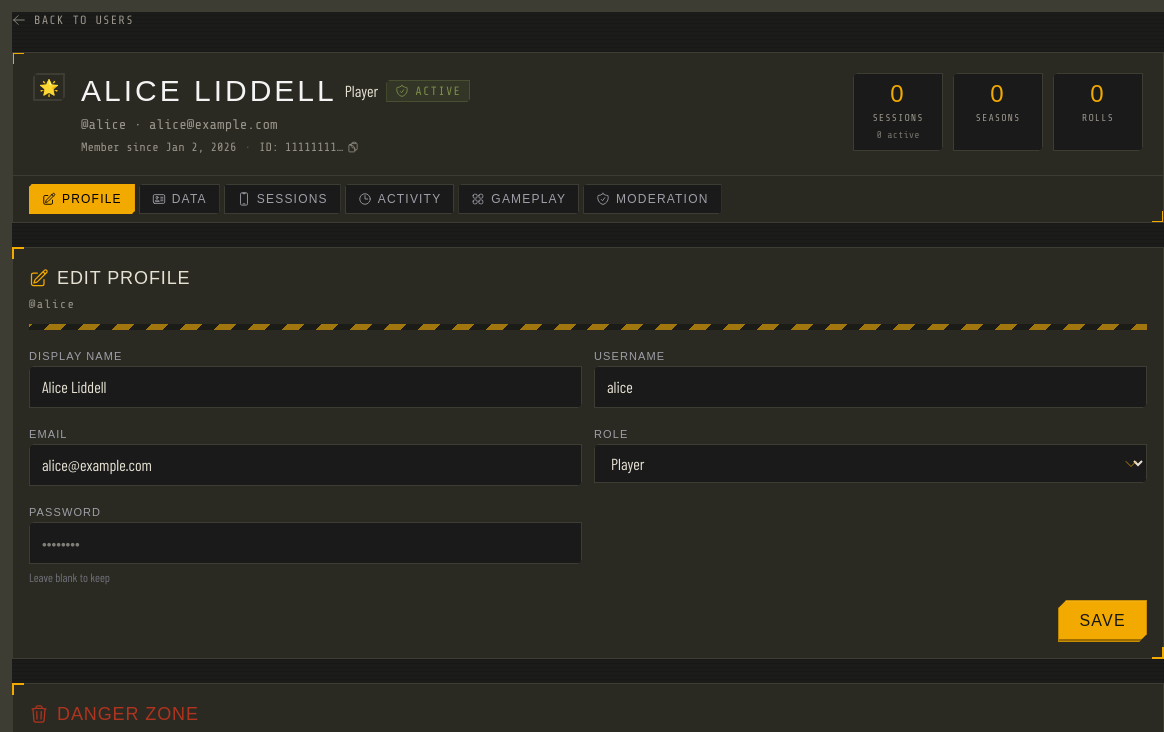
Test: UserDetailPage › prefills the profile form from the user and submits the payload to updateUserAction
This screenshot has width=1164, height=732.
Replace the text in the field with placeholder "Display name" with "Alice A." at {"x": 306, "y": 387}, box [29, 366, 582, 408]
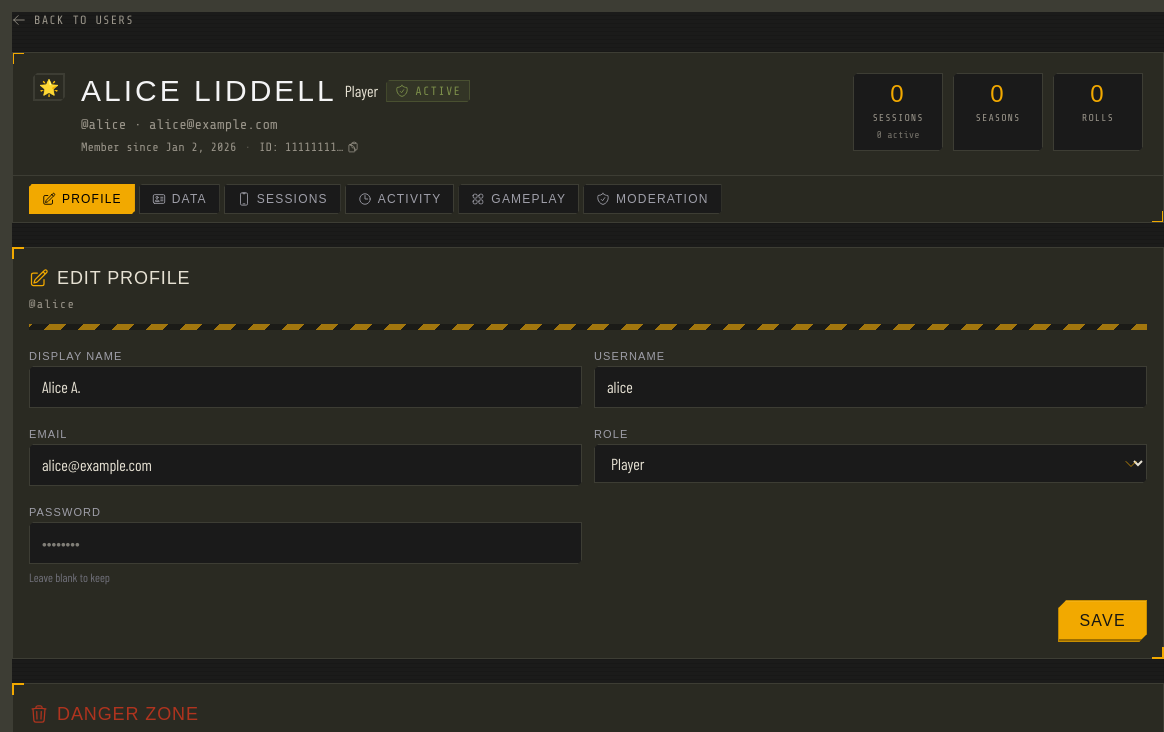
Click the button "Save" at {"x": 1103, "y": 621}, box [1058, 600, 1147, 642]
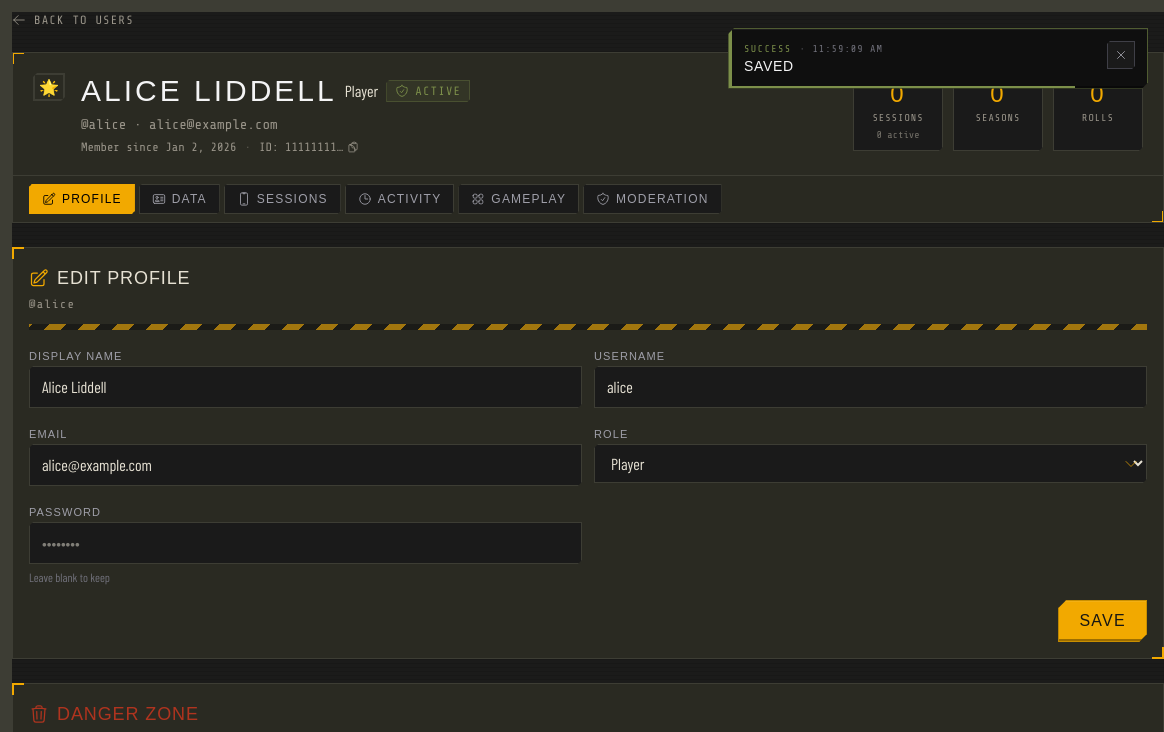
Check: the heading "Saved" is shown, box [744, 58, 794, 74]
